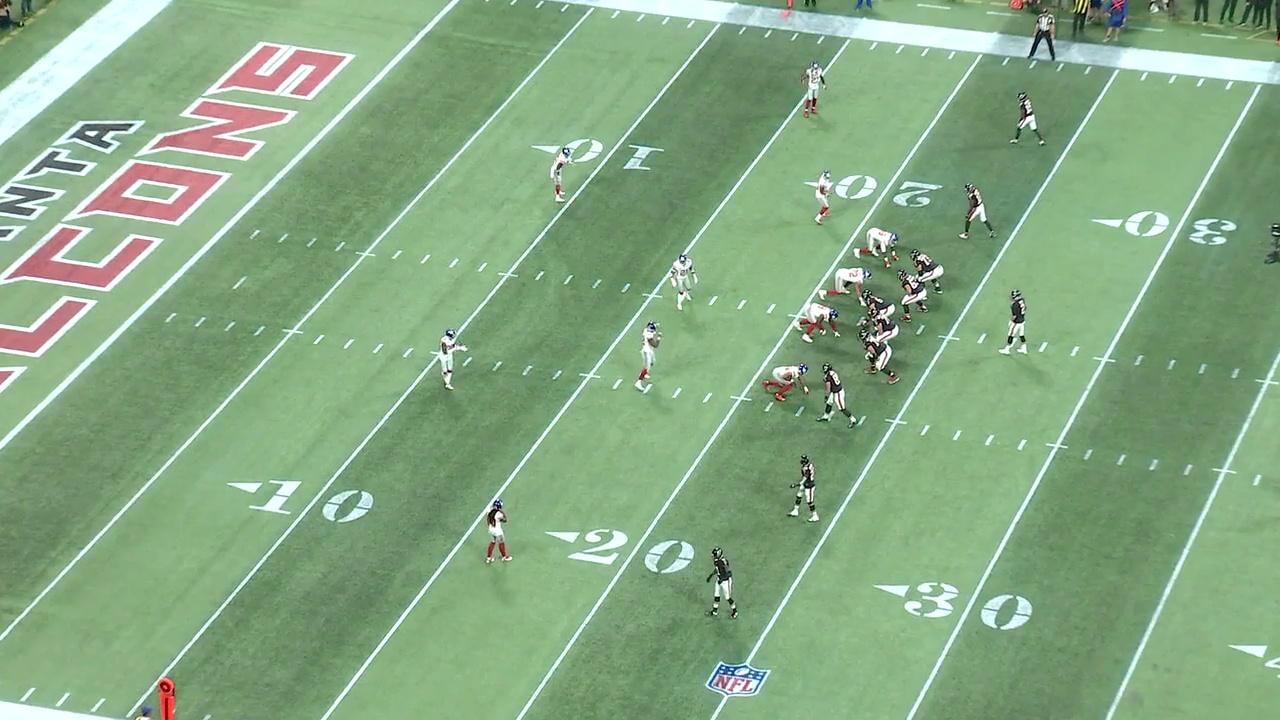defense: (631, 319, 664, 394), (816, 265, 873, 308), (760, 361, 811, 405), (791, 302, 843, 345), (482, 497, 514, 566), (852, 226, 902, 269), (437, 328, 469, 393), (668, 253, 700, 314), (800, 59, 830, 119), (547, 146, 577, 205), (812, 166, 835, 227)
oline: (857, 329, 902, 387), (908, 248, 946, 299), (896, 268, 928, 324), (866, 305, 900, 346), (859, 286, 897, 320)
qb: (997, 288, 1031, 359)
ref: (1023, 8, 1058, 62)
skill: (815, 361, 859, 431), (706, 545, 743, 622), (956, 181, 999, 241), (786, 453, 821, 525), (1008, 91, 1048, 147)
